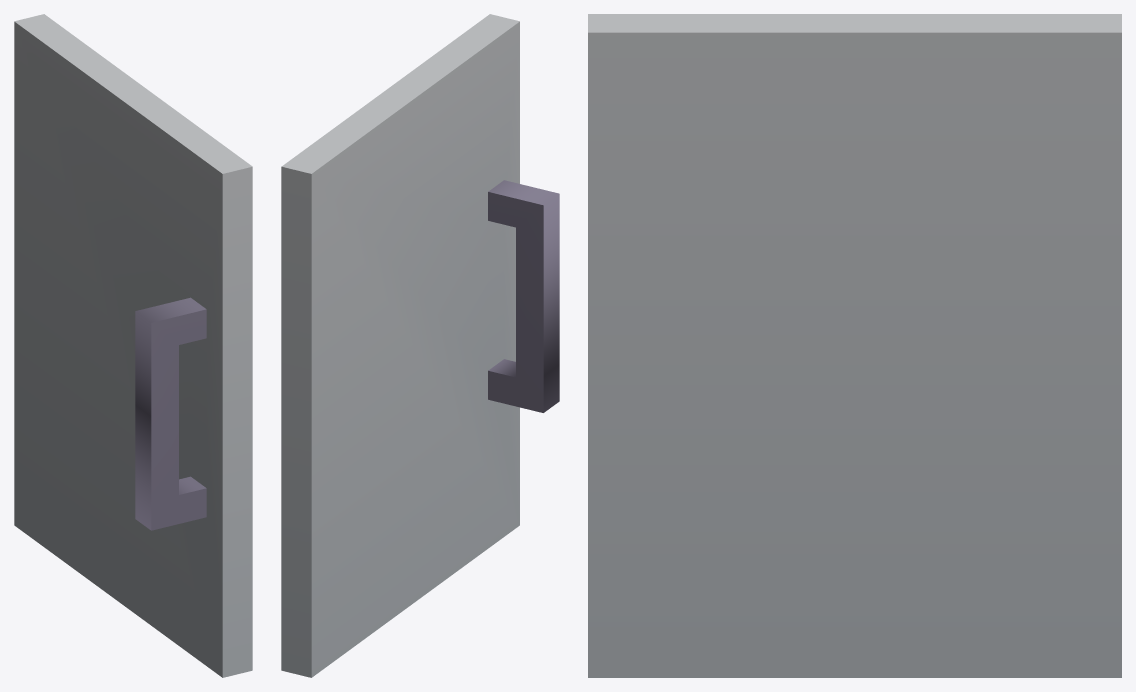
The model's file is (%no-merge) (%open-left) (%low) 22.glb.
3 renders of one model, left to right at view 1: azimuth 30°, elevation 25°; view 2: azimuth 150°, elevation 25°; view 3: azimuth 270°, elevation 25°, orthographic. The views are drawn at different scales.
Visible parts, largest first — view 1: (%no-merge) (%open-left) (%low) 22(Clone); view 2: (%no-merge) (%open-left) (%low) 22(Clone); view 3: (%no-merge) (%open-left) (%low) 22(Clone).
Boxes of the visible parts, x1,y1,x2,y2 form: (%no-merge) (%open-left) (%low) 22(Clone): (14,14,252,677); (%no-merge) (%open-left) (%low) 22(Clone): (281,14,559,677); (%no-merge) (%open-left) (%low) 22(Clone): (588,14,1121,677).
Bounding box in the file's own units: 0.071 × 0.4 × 0.3.
